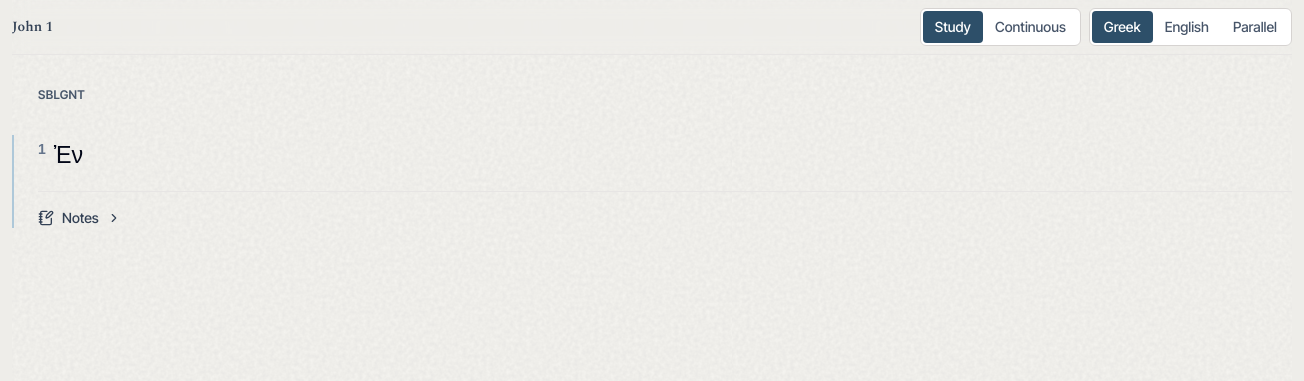
it: BibleReader note affordance › hides the note editor until the note button is pressed
The image size is (1304, 381).
Expected: the field with placeholder "write a note" is not shown
Click the button with aria-label "notes on john 1:1". click: (79, 218)
box: [38, 208, 121, 228]
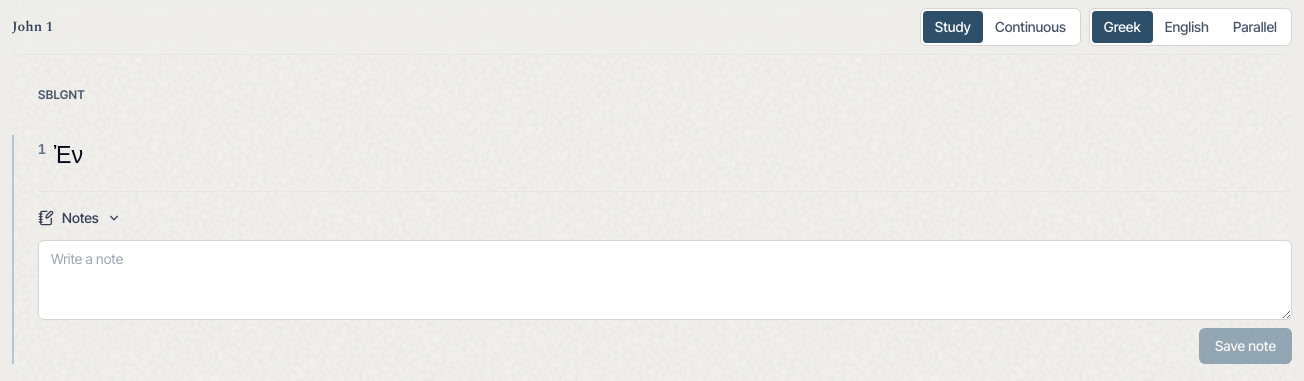
Expected: the text box with placeholder "Write a note" is shown, [38, 240, 1292, 320]
